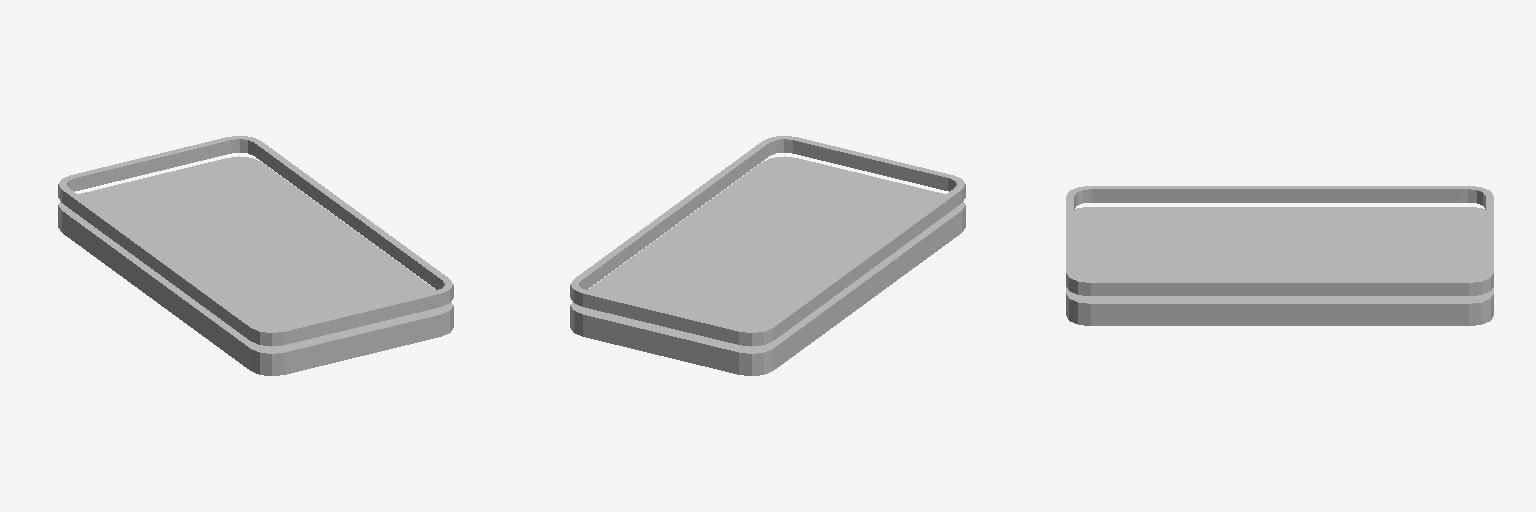
File: stage1.obj
3 renders of one model, left to right at view 1: azimuth 30°, elevation 25°; view 2: azimuth 150°, elevation 25°; view 3: azimuth 270°, elevation 25°, orthographic.
Parts seen in each view (by area): view 1: 1_Cube; view 2: 1_Cube; view 3: 1_Cube.
Boxes of the visible parts, x1=… form: 1_Cube: x1=58, y1=136, x2=453, y2=375; 1_Cube: x1=570, y1=136, x2=965, y2=375; 1_Cube: x1=1066, y1=186, x2=1493, y2=325.
Bounding box in the file's own units: 7 × 1.45 × 13.